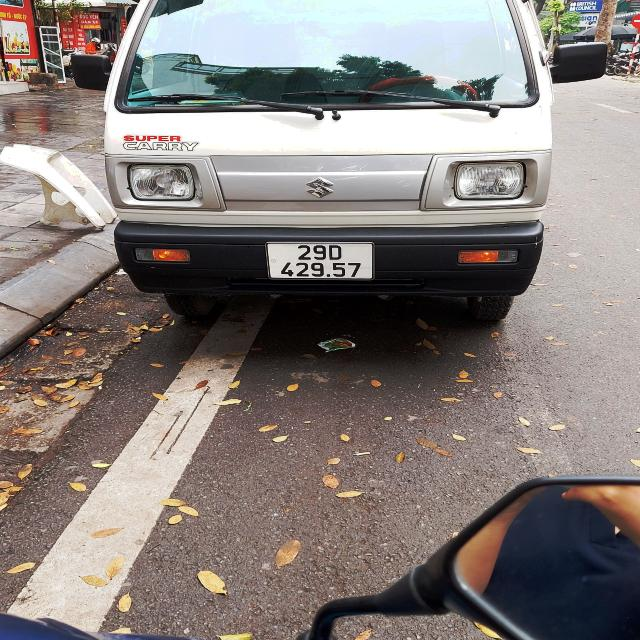license_plate: (261, 239, 379, 284)
